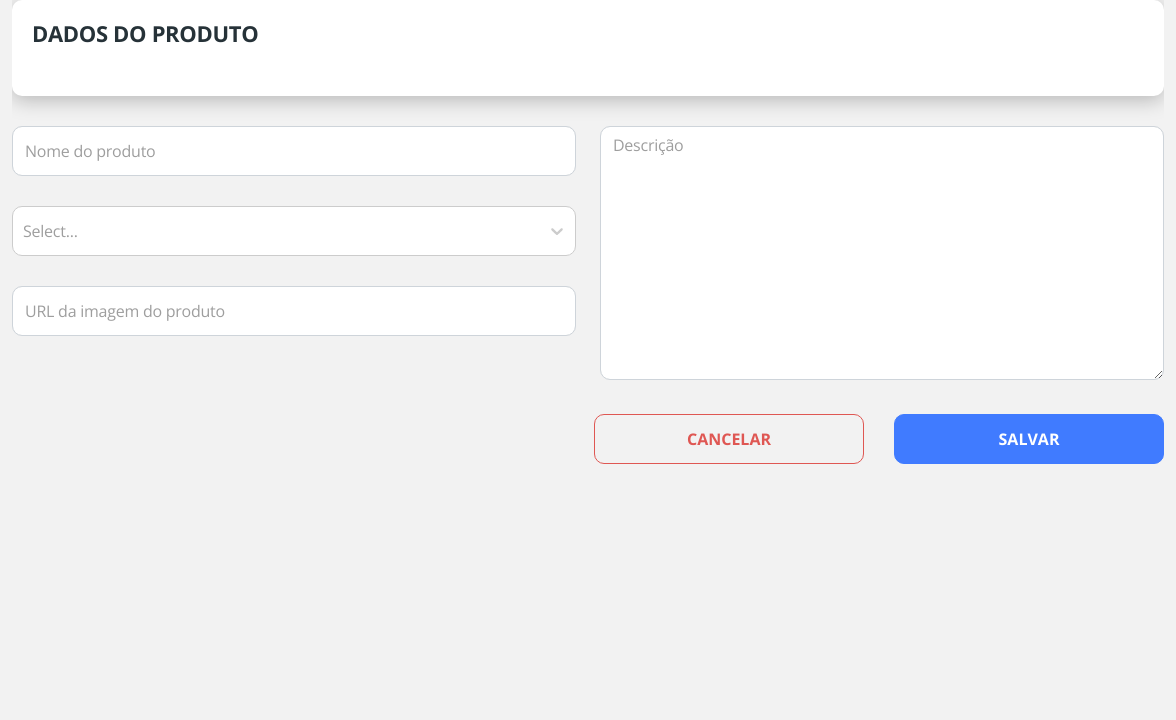
Test case: Product form create tests › should show 5 validation messages when  just clicking submit
Click the button "SALVAR" at (1029, 439), box [894,414,1164,464]
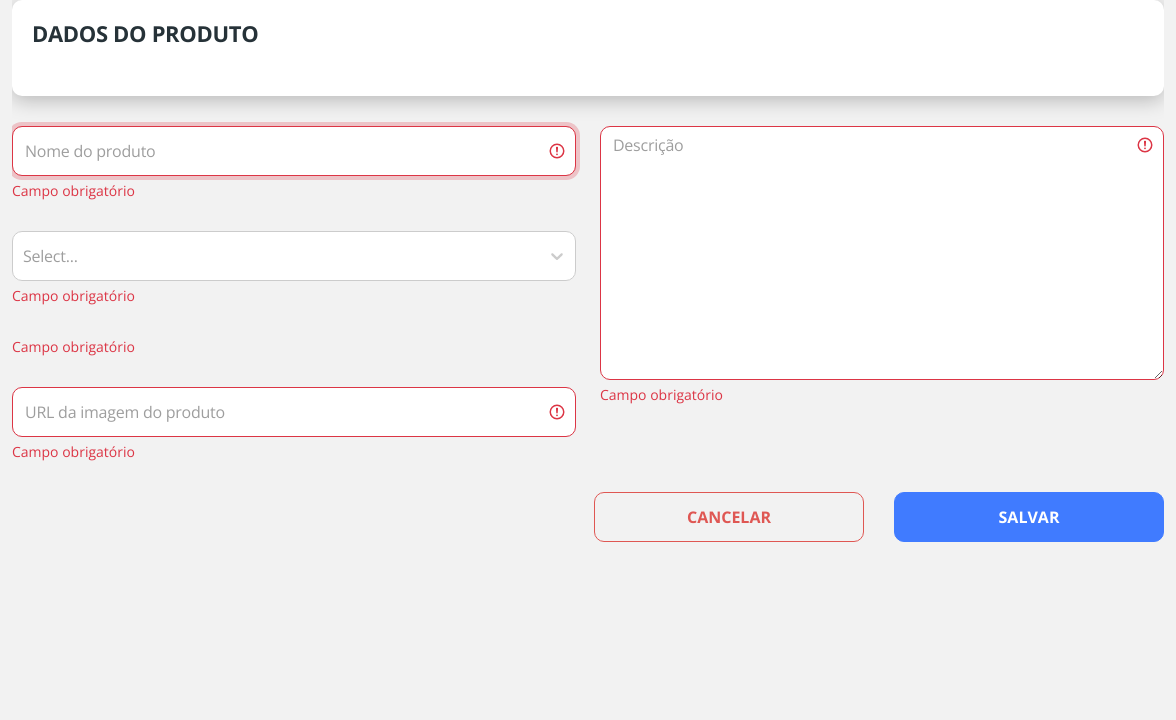
Now the text "Campo obrigatório" is shown 5 times, box [12,181,135,200]; [12,286,135,305]; [12,337,135,356]; [12,442,135,461]; [600,385,723,404]
